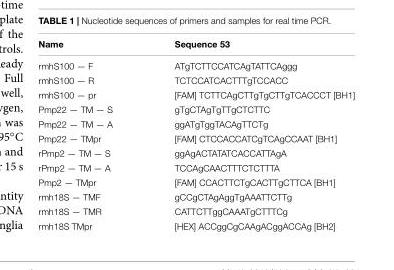table: (37, 37, 354, 230)
table column: (142, 37, 354, 230), (37, 37, 142, 230)
table column header: (37, 37, 354, 54)
table row: (37, 54, 354, 72), (37, 37, 354, 54), (37, 86, 354, 101), (37, 101, 354, 116), (37, 130, 354, 145), (37, 159, 354, 174), (37, 188, 354, 203), (37, 72, 354, 86), (37, 116, 354, 130), (37, 145, 354, 159), (37, 174, 354, 188), (37, 203, 354, 217), (37, 217, 354, 230)
